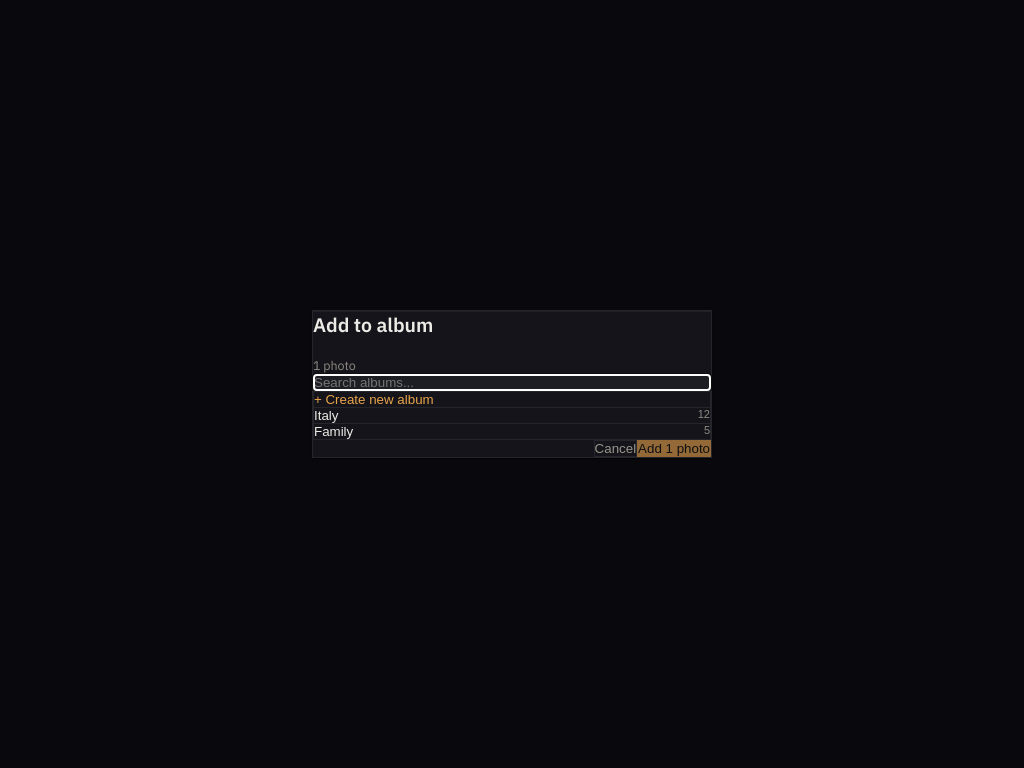
Test: AddToAlbumModal › filters albums by name (case-insensitive)
Step 1. Type "fam" into the field with placeholder "Search albums..." → (512, 382), box [313,374,711,391]
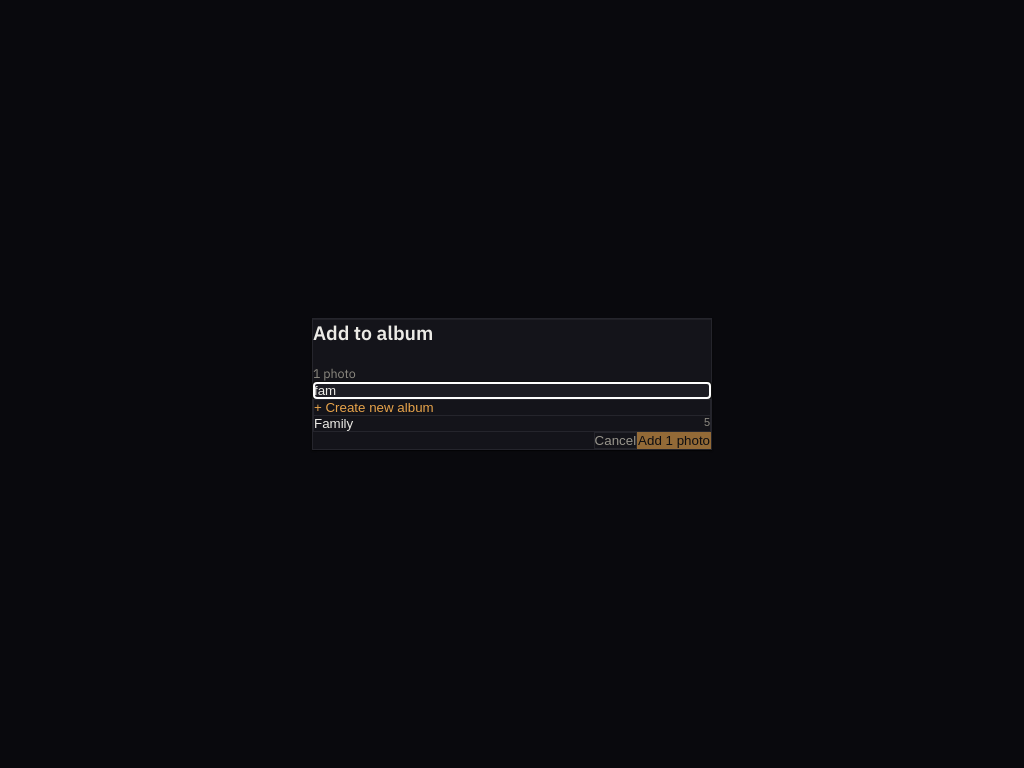
Expected: the text "Family" is shown, [314,416,353,431]
Result: the button "Italy" is gone
